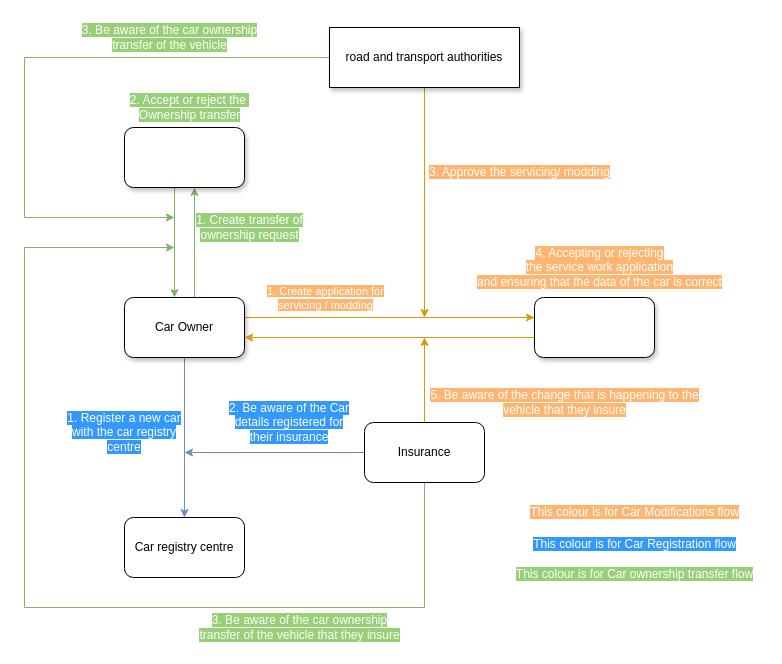
Image size: 782x664. Some labels were removed from this diagram. Each missing label, with the centre of its shape:
"Car buyer" goes at (185,158).
"Service centre / Workshop" goes at (595,328).
